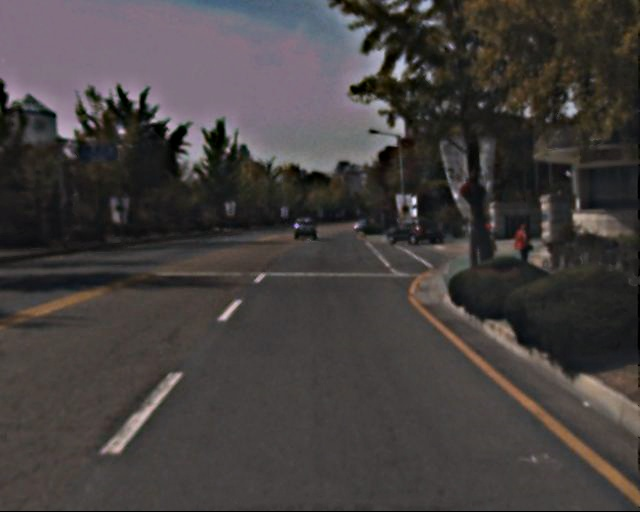person: (511, 221, 534, 276)
